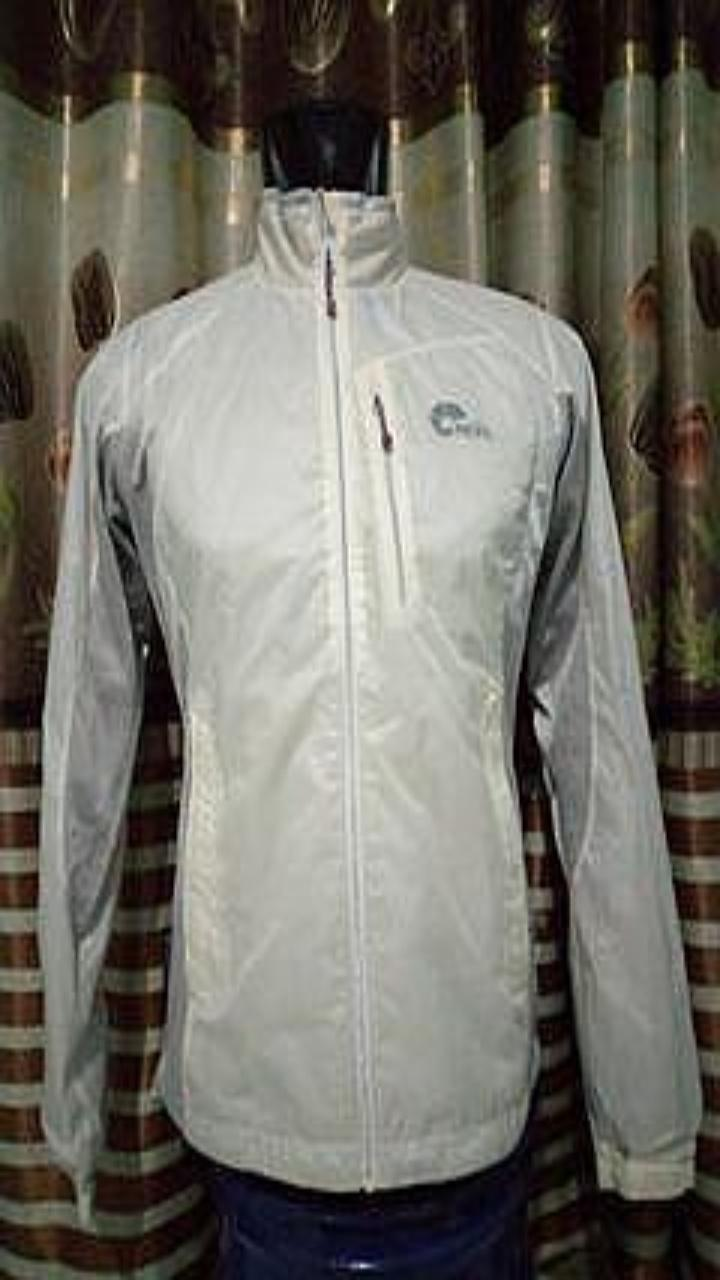Jeans: (208, 1133, 532, 1279)
Sports_Jacket: (39, 187, 700, 1219)
